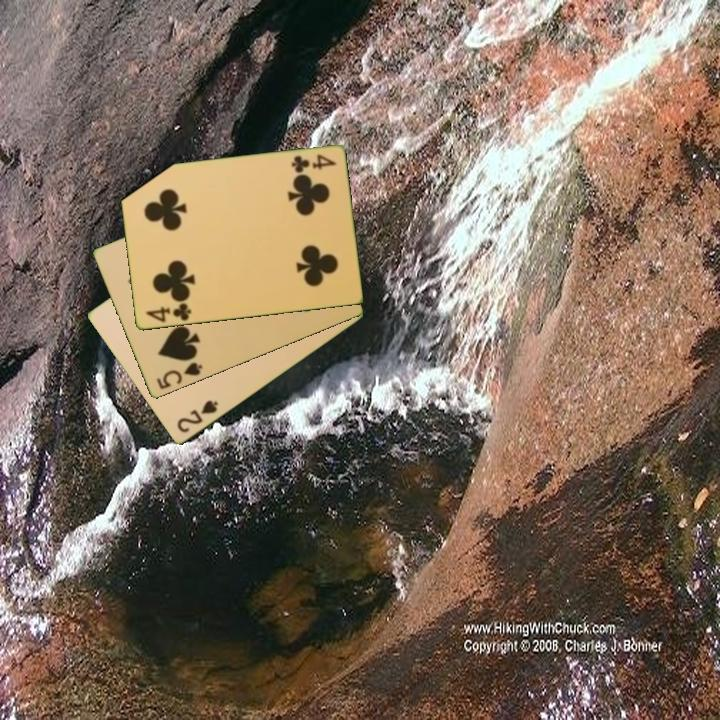2s: (173, 397, 221, 436)
4c: (142, 300, 194, 326), (287, 151, 339, 175)
5s: (153, 359, 205, 392)
